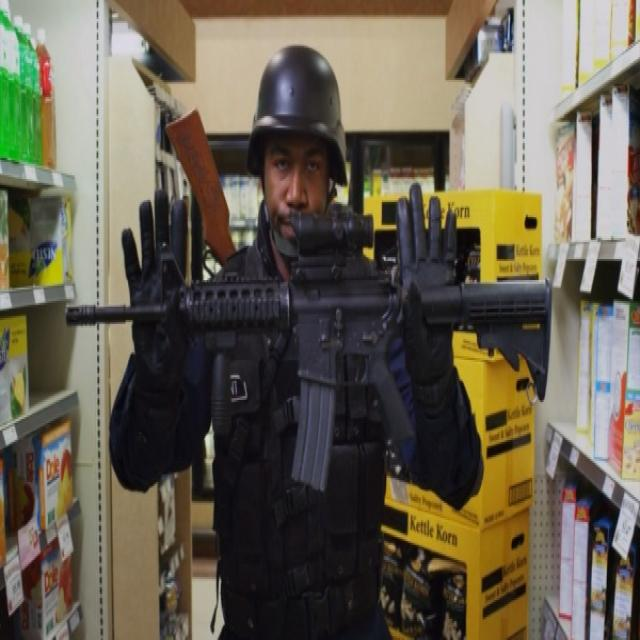rifle: (64, 241, 563, 507)
